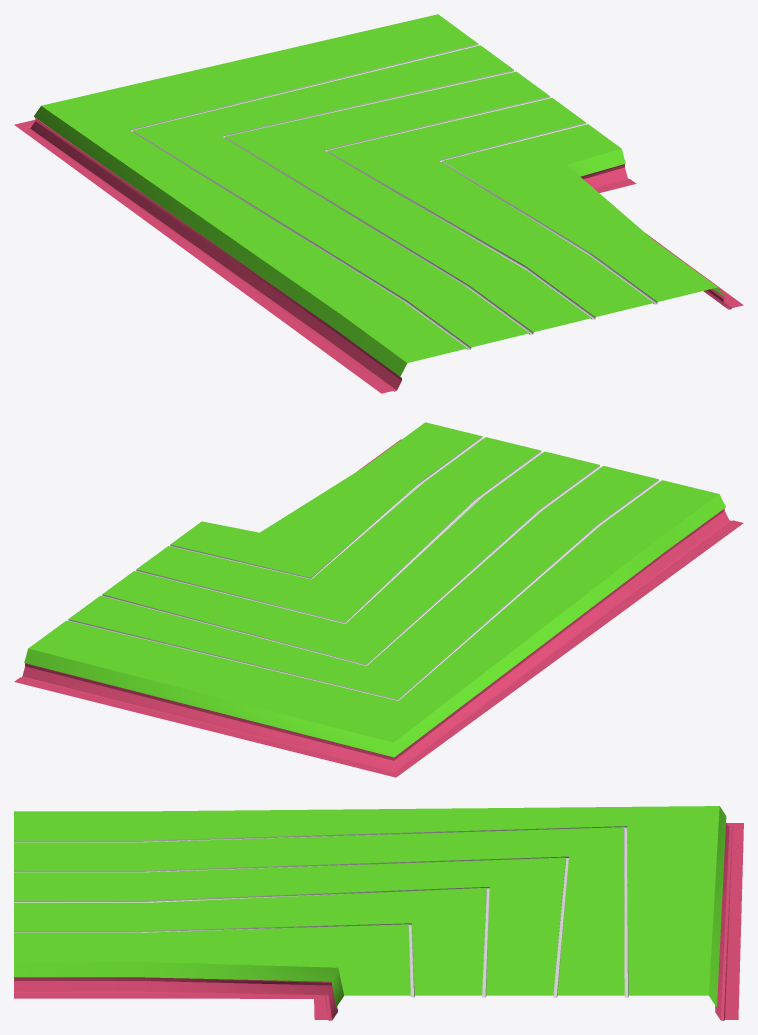
The model's file is RoofV2.fbx.
3 views of the same model, one above another, from view 1: azimuth 30°, elevation 25°; view 2: azimuth 150°, elevation 25°; view 3: azimuth 270°, elevation 25° (orthographic). The views are drawn at different scales.
Visible parts, largest first — view 1: Plane.001; view 2: Plane.001; view 3: Plane.001.
Boxes of the visible parts, left/top/right/bottom form: Plane.001: left=14, top=14, right=743, bottom=393; Plane.001: left=14, top=422, right=743, bottom=777; Plane.001: left=14, top=806, right=743, bottom=1020.
Size of the model in its own units: 1425 by 84.89 by 2232.
